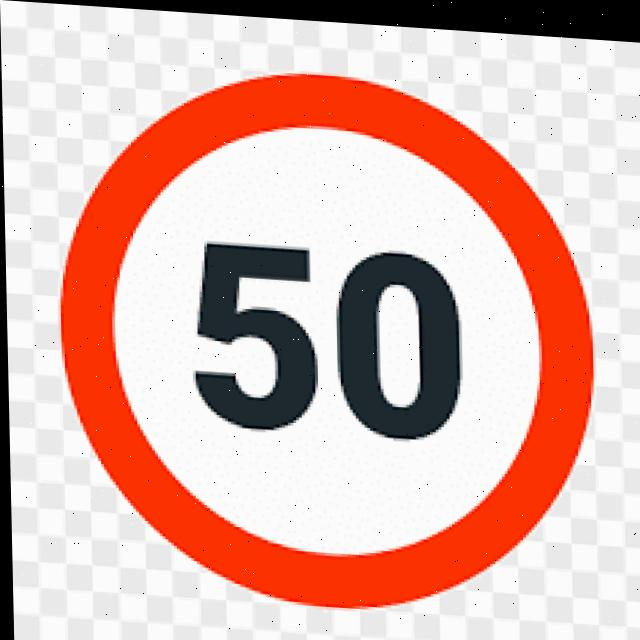Speed limit 50: (50, 52, 600, 621)
